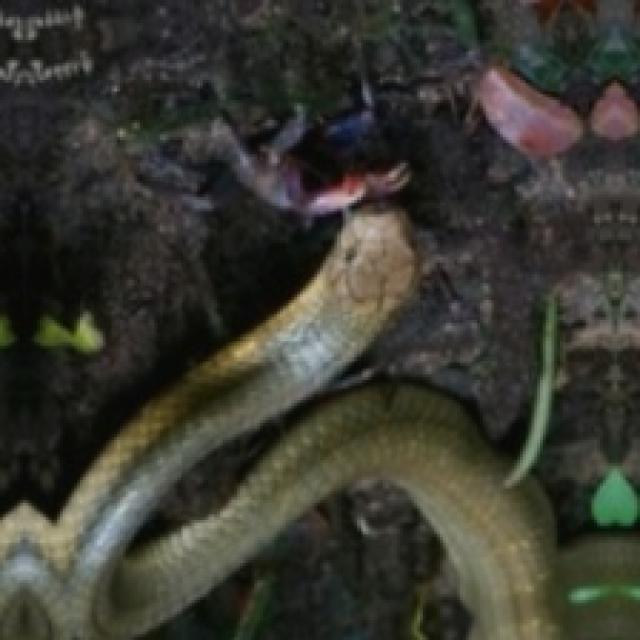king cobra: (0, 206, 560, 637)
